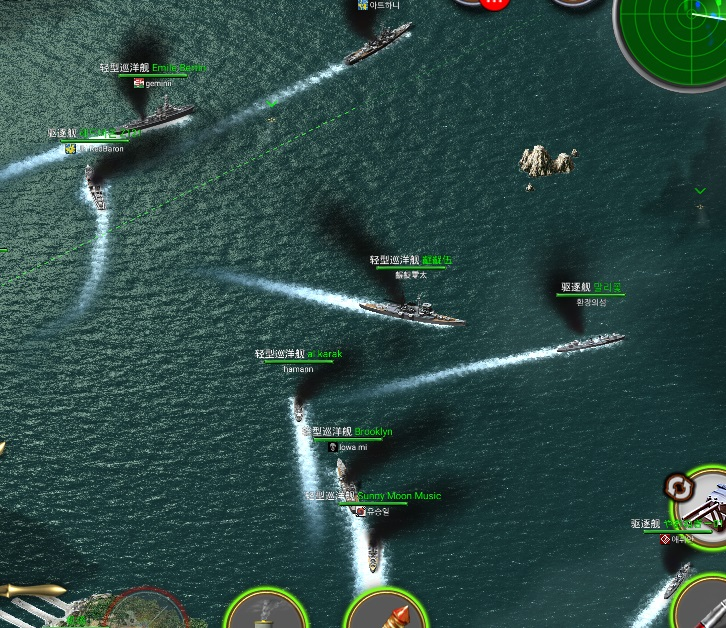ship: (356, 295, 468, 330), (344, 17, 417, 65), (116, 100, 197, 140), (550, 328, 626, 354), (80, 160, 114, 214), (334, 457, 362, 513), (367, 522, 386, 573), (291, 387, 310, 426)
